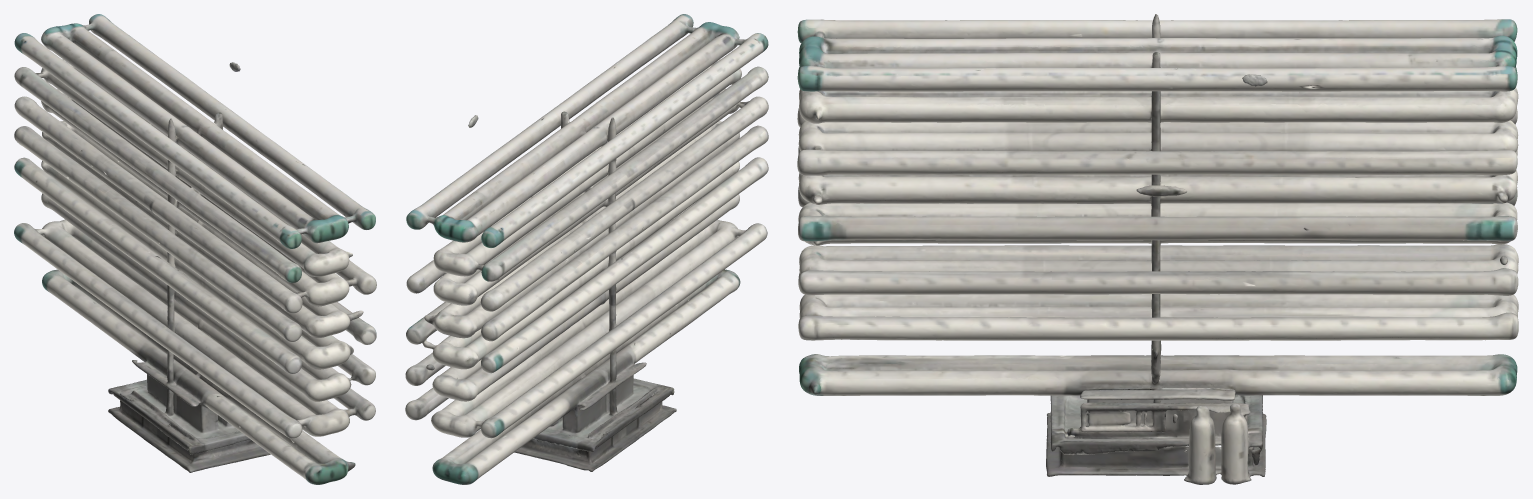
File: Hydroponic_System_Des_0222144816_texture.glb
3 renders of one model, left to right at view 1: azimuth 30°, elevation 25°; view 2: azimuth 150°, elevation 25°; view 3: azimuth 270°, elevation 25°, orthographic. The views are drawn at different scales.
Size of the model in its own units: 0.5302 by 1.3 by 2.
1 material, 1 textured.
